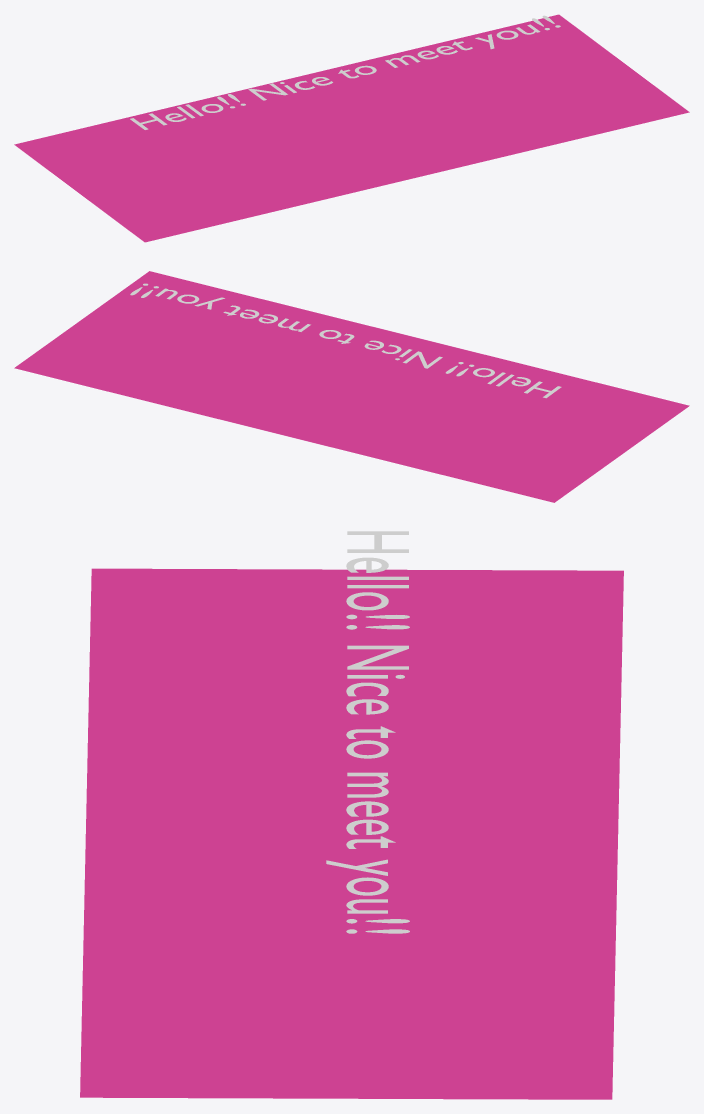
File: takeuchiyuuki.glb
The picture shows the model from 3 angles, top to bottom: view 1: azimuth 30°, elevation 25°; view 2: azimuth 150°, elevation 25°; view 3: azimuth 270°, elevation 25°; orthographic projection. The views are drawn at different scales.
Parts seen in each view (by area): view 1: 平面, テキスト; view 2: 平面, テキスト; view 3: 平面, テキスト.
Part boxes in pixels (x1,y1,x2,y2): 平面: (14,14,689,242); テキスト: (130,15,560,129); 平面: (14,271,689,502); テキスト: (130,283,561,398); 平面: (80,568,623,1099); テキスト: (326,531,409,933).
Bounding box in the file's own units: 13.85 × 1.26 × 5.99.
